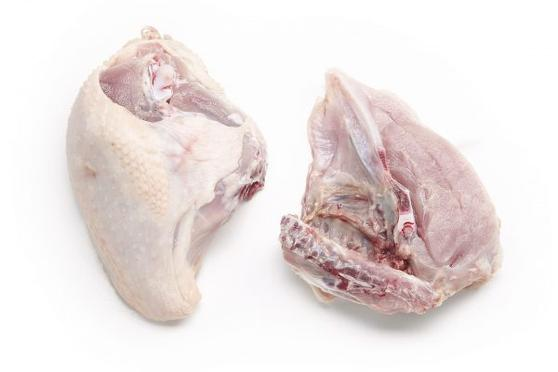chicken_fillet: (71, 33, 272, 330), (286, 71, 506, 328)
